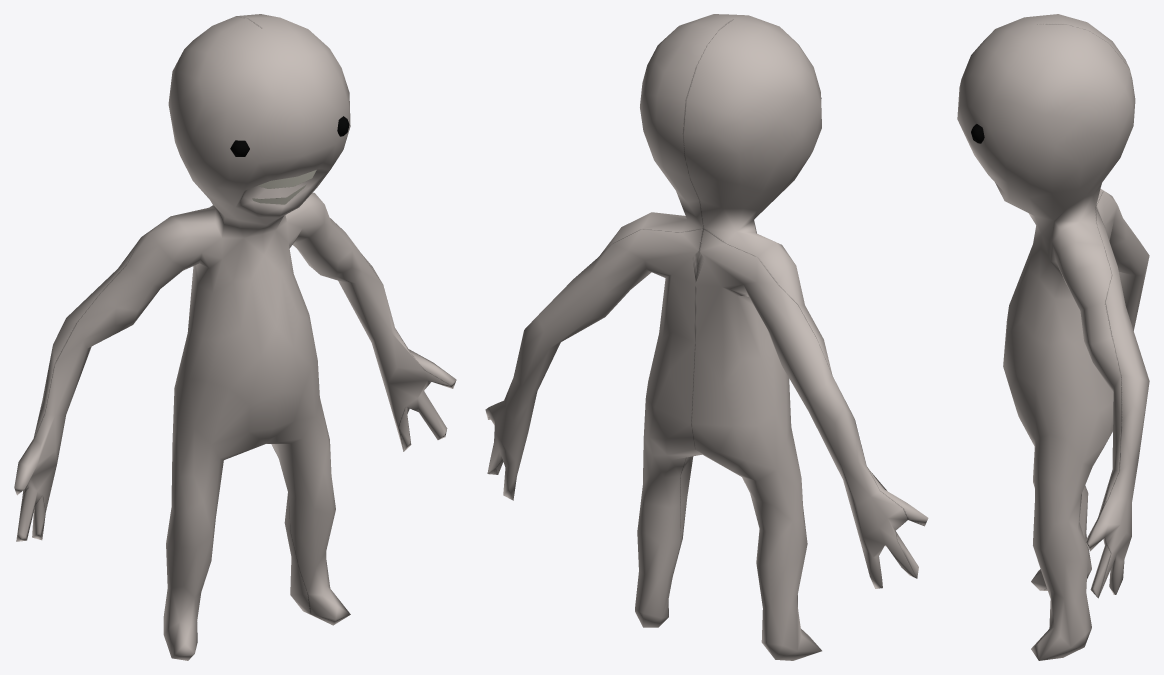
Rendered from Enemy1_Beta.OBJ.
3 views of the same model, side by side, from view 1: azimuth 30°, elevation 25°; view 2: azimuth 150°, elevation 25°; view 3: azimuth 270°, elevation 25° (orthographic). The views are drawn at different scales.
Size of the model in its own units: 2.51 by 3.34 by 0.9687.
